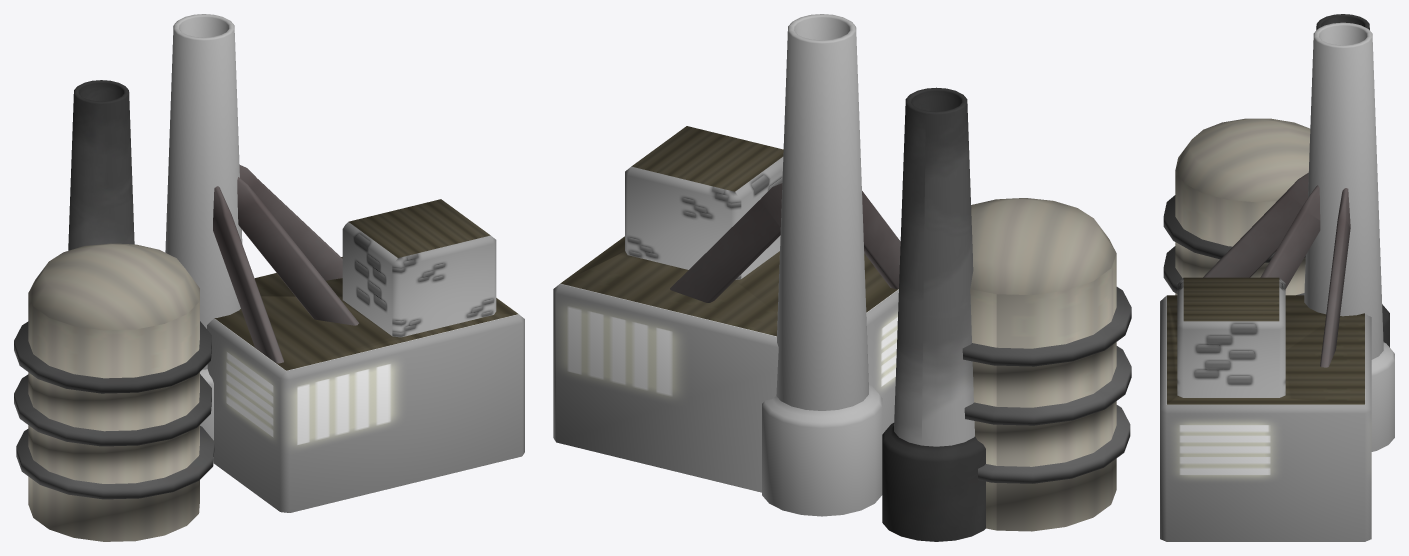
Rendered from building_2_01.FBX.
3 renders of one model, left to right at view 1: azimuth 30°, elevation 25°; view 2: azimuth 150°, elevation 25°; view 3: azimuth 270°, elevation 25°, orthographic. The views are drawn at different scales.
Visible parts, largest first — view 1: Box001, Cylinder003, Cylinder001, Object001, Cylinder002; view 2: Box001, Cylinder003, Cylinder001, Cylinder002, Object001; view 3: Box001, Cylinder001, Cylinder003, Object001, Cylinder002.
Part boxes in pixels (x1,y1,x2,y2): Box001: (207, 199, 524, 512); Cylinder003: (14, 243, 214, 541); Cylinder001: (165, 14, 242, 463); Object001: (213, 165, 358, 363); Cylinder002: (68, 80, 134, 250); Box001: (553, 126, 898, 492); Cylinder003: (962, 198, 1131, 531); Cylinder001: (762, 14, 882, 516); Cylinder002: (882, 87, 985, 541); Object001: (670, 183, 900, 302); Box001: (1160, 277, 1371, 541); Cylinder001: (1304, 22, 1394, 451); Cylinder003: (1163, 118, 1310, 295); Object001: (1203, 173, 1350, 367); Cylinder002: (1316, 14, 1389, 347).
Size of the model in its own units: 74.56 by 65.96 by 35.15.
